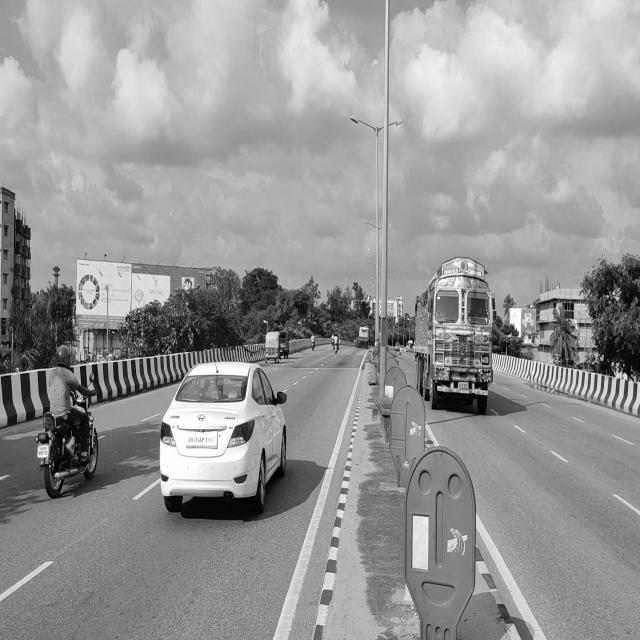bike: (34, 406, 101, 497)
car: (156, 363, 293, 528)
truck: (407, 254, 501, 416)
